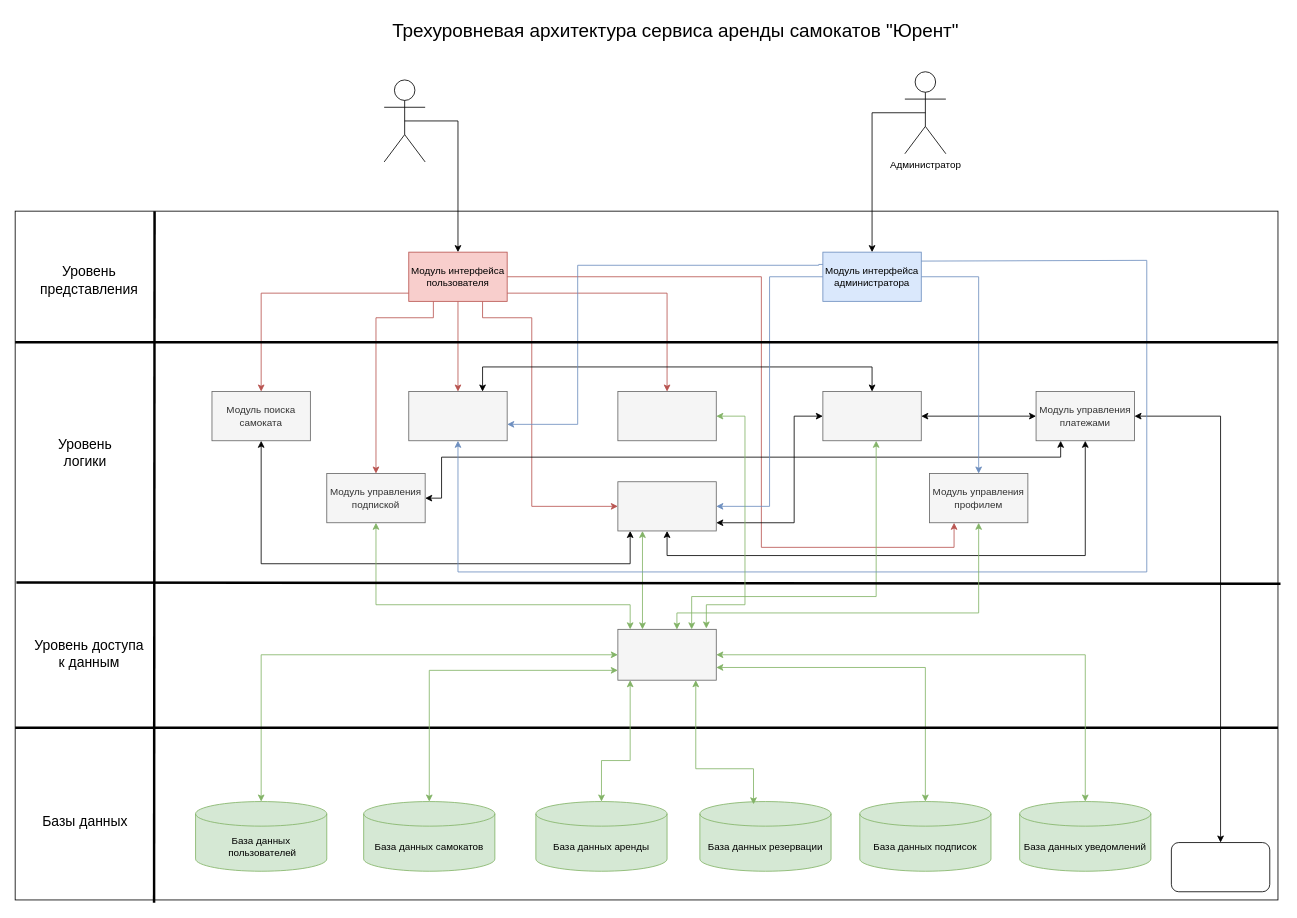
The diagram is 1297 pixels wide and 918 high, and some of its shapes have lost their labels. The box of each missing label's shape, as (x1, y1, x2, y2) in pixels:
Внешние платежные системы: (1171, 842, 1270, 892)
Модуль авторизации и регистрации: (617, 391, 716, 441)
Модуль доступа к базам данных: (617, 629, 716, 680)
Модуль технической поддержки: (408, 391, 507, 441)
Модуль управления уведомлениями: (822, 391, 921, 441)
Моудль управления самокатами: (617, 481, 716, 531)
Пользователь: (383, 79, 425, 162)
